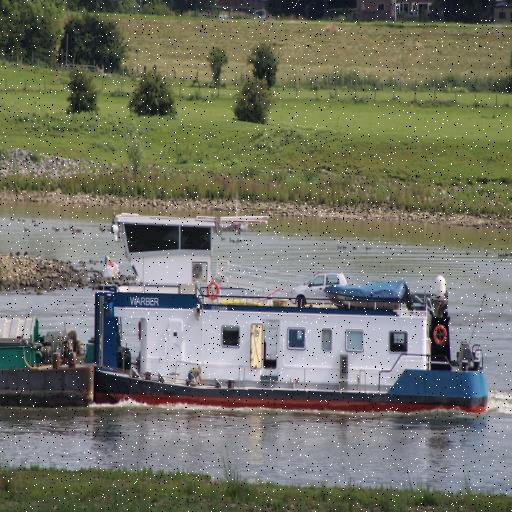tugboat: (90, 207, 492, 431)
